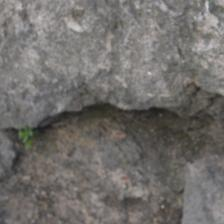Crack: (9, 73, 217, 139)
